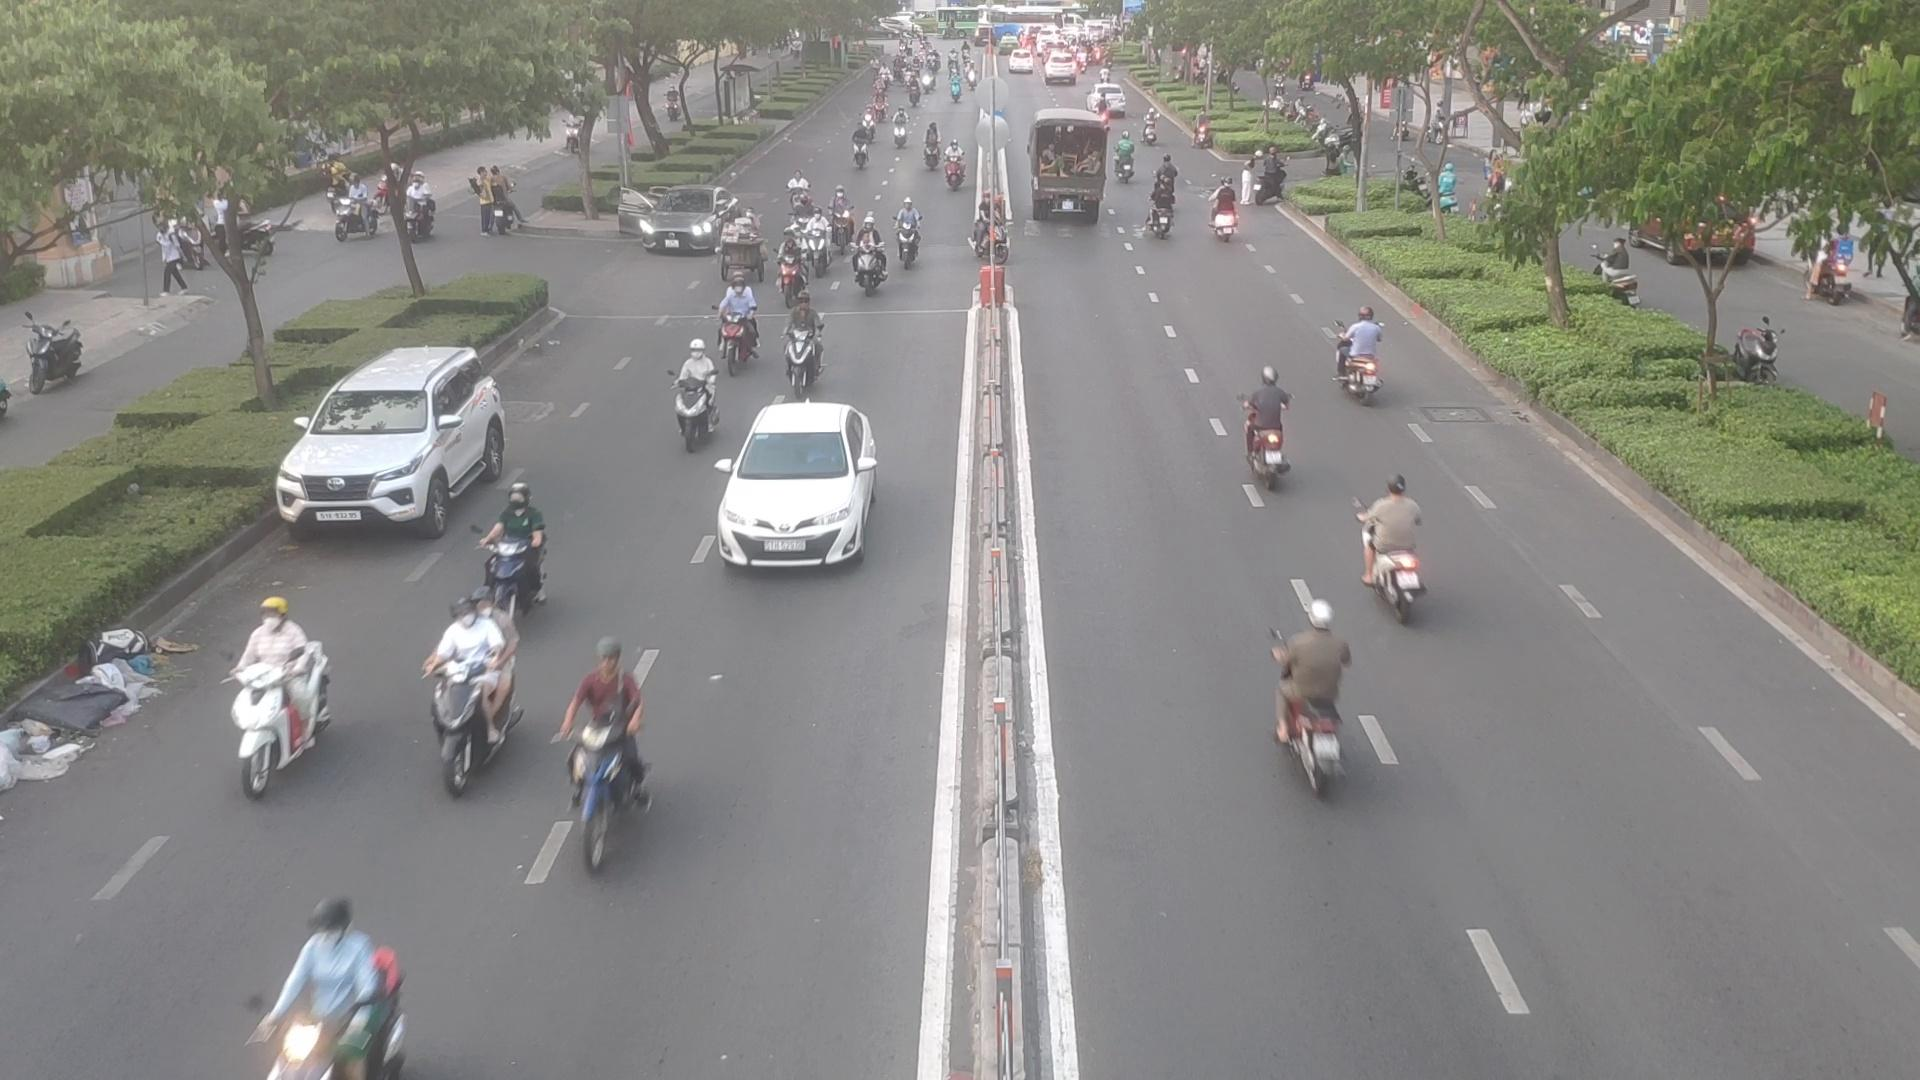car: (280, 349, 524, 541), (698, 404, 884, 567), (615, 191, 735, 258)
motorbike: (255, 911, 407, 1080), (554, 647, 659, 866), (218, 603, 335, 789), (1261, 613, 1382, 789), (425, 603, 520, 785), (1353, 480, 1435, 613), (472, 481, 554, 599), (1238, 371, 1299, 488), (1331, 309, 1393, 392), (671, 349, 727, 439), (712, 284, 765, 367), (785, 294, 833, 381), (848, 229, 887, 298), (795, 214, 836, 276), (887, 207, 922, 272), (1212, 183, 1247, 243), (1147, 185, 1182, 237), (1150, 171, 1183, 214), (1109, 135, 1138, 179), (944, 144, 971, 191), (886, 116, 911, 150)
